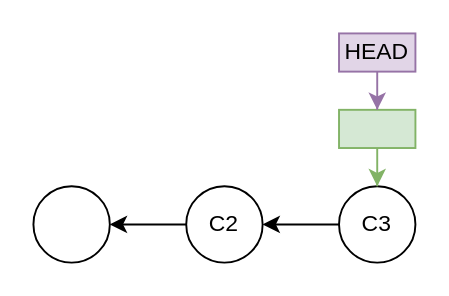
Image size: 449x296. Some labels were removed from this diagram. The shapes that lost their labels are listed below. From the top down, each one's centre as x and y in pixels, then its label:
point (376, 128): main
point (71, 223): C1
